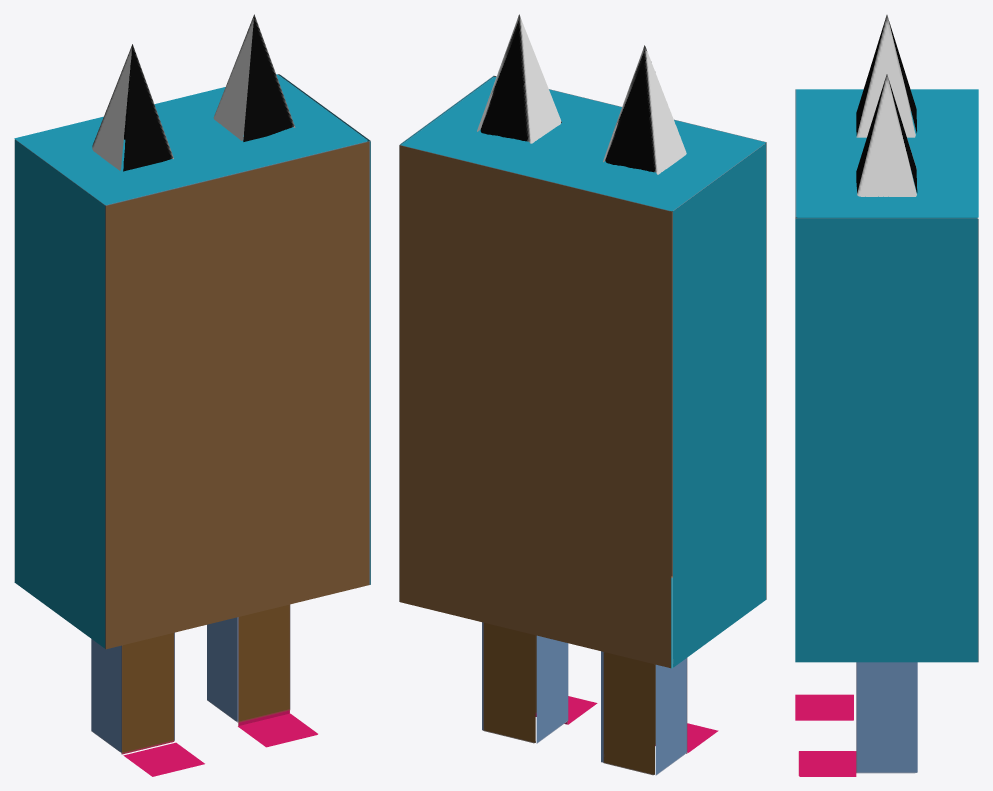
File: monster_nemo.dae
3 renders of one model, left to right at view 1: azimuth 30°, elevation 25°; view 2: azimuth 150°, elevation 25°; view 3: azimuth 270°, elevation 25°, orthographic. The views are drawn at different scales.
Parts seen in each view (by area): view 1: Cube_005; view 2: Cube_005; view 3: Cube_005.
Part boxes in pixels (left/top/right/bottom): Cube_005: left=14, top=14, right=370, bottom=776; Cube_005: left=399, top=14, right=766, bottom=775; Cube_005: left=795, top=15, right=978, bottom=776.
Bounding box in the file's own units: 5 × 3 × 12.5.
1 material, 1 textured.
